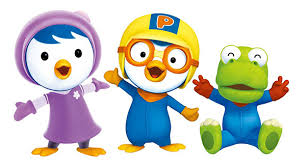Petty: (13, 8, 110, 158)
Pororo: (104, 11, 200, 160)
